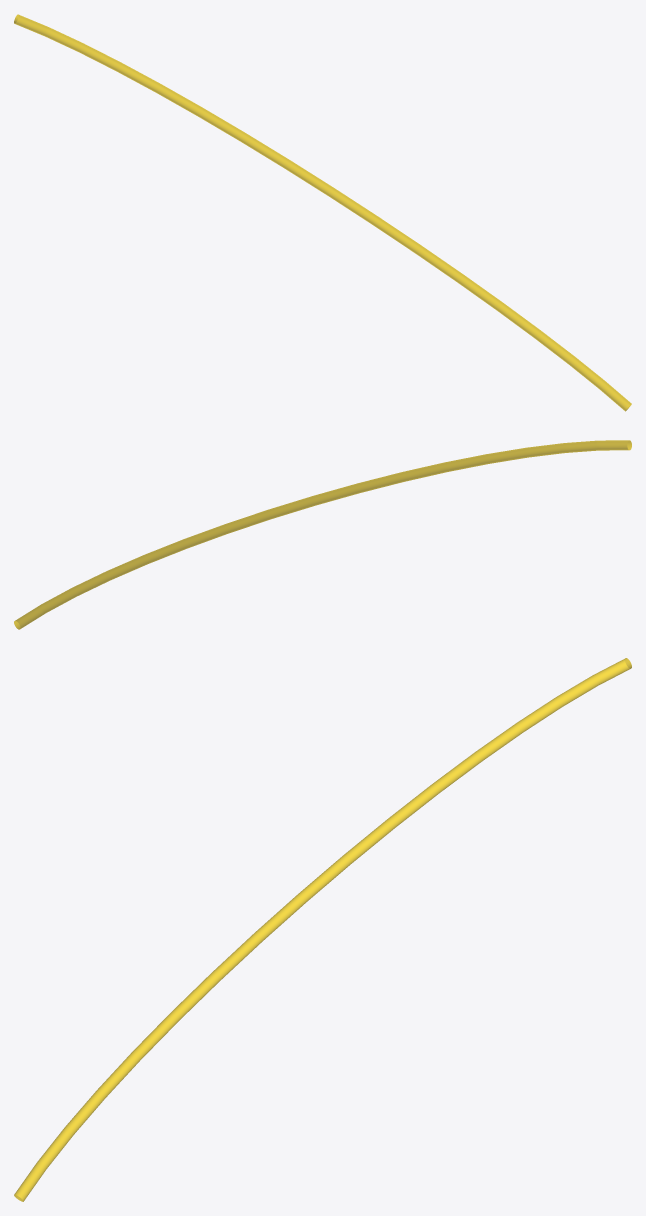
The model's file is Event_17758602_track_116.fbx.
3 renders of one model, top to bottom at view 1: azimuth 30°, elevation 25°; view 2: azimuth 210°, elevation 25°; view 3: azimuth 270°, elevation 25°, orthographic. The views are drawn at different scales.
Visible parts, largest first — view 1: Model; view 2: Model; view 3: Model.
Boxes of the visible parts, x1=… form: Model: x1=14, y1=14, x2=631, y2=411; Model: x1=14, y1=440, x2=631, y2=629; Model: x1=14, y1=658, x2=631, y2=1201.
Size of the model in its own units: 1.64 by 1.28 by 2.08.
